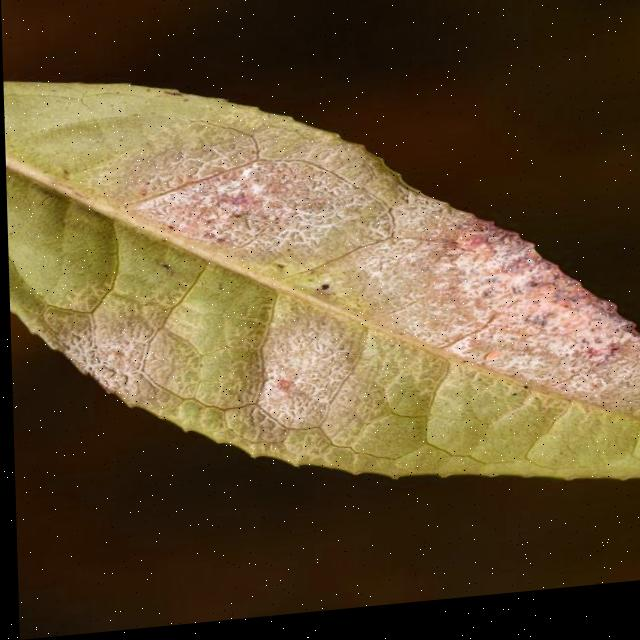Tea exobasidium blight: (376, 218, 631, 427), (231, 321, 387, 436), (168, 173, 351, 270), (59, 300, 197, 411)
